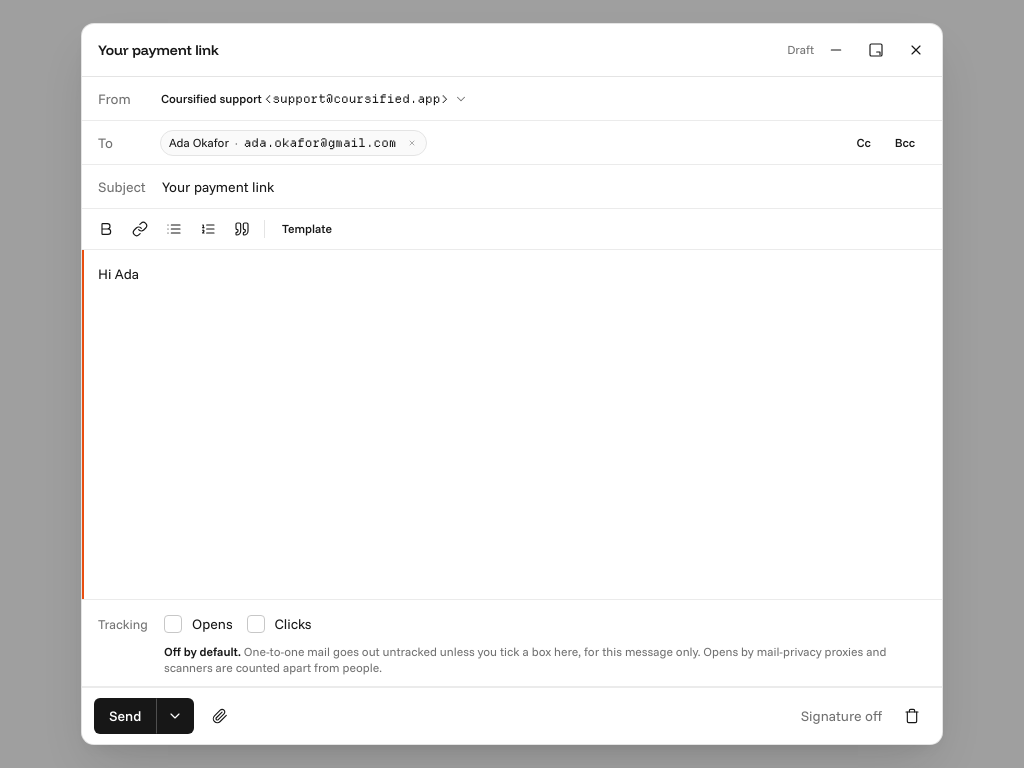
Test: Send with the 10 s undo window › counts down in the toast, and Undo cancels the send
Expected: the button named "Remove ada.okafor@gmail.com" is shown, [402,132,422,152]
Click the button "Send".
click(125, 716)  # box [94,698,156,734]
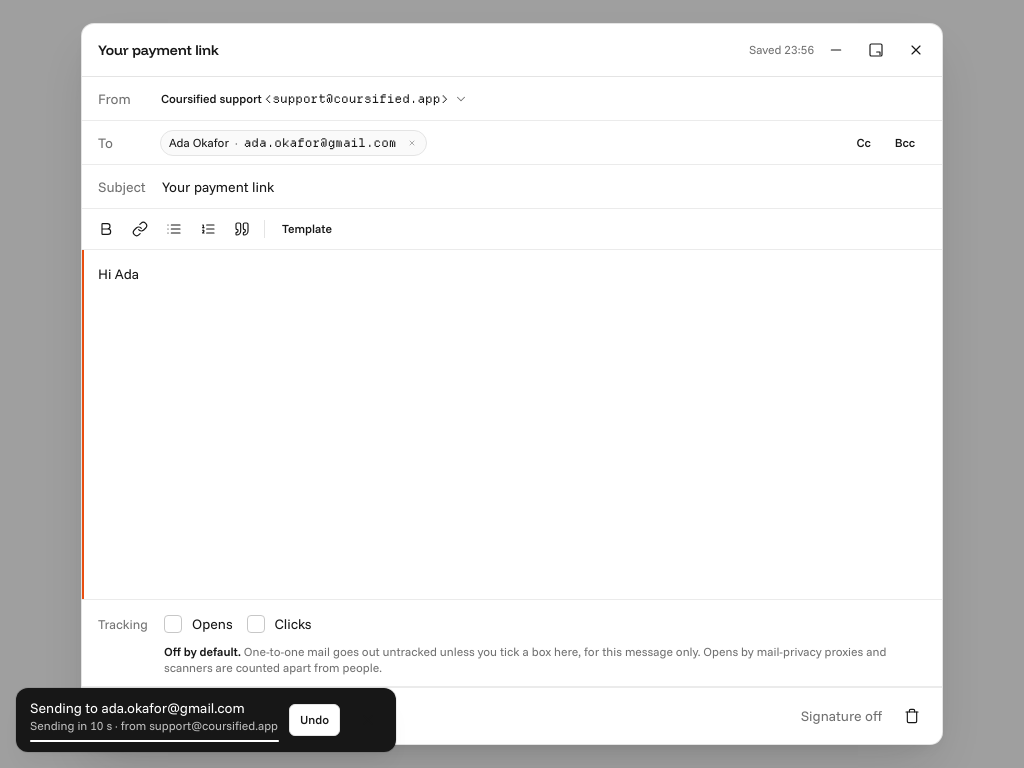
Expected: the text "Sending to ada.okafor@gmail.com" is shown, [30,699,245,717]
Expected: the text "Sending in 10 s · from support@coursified.app" is shown, [30,718,279,734]
Click the button "Undo".
click(314, 720)  # box [289,704,340,736]
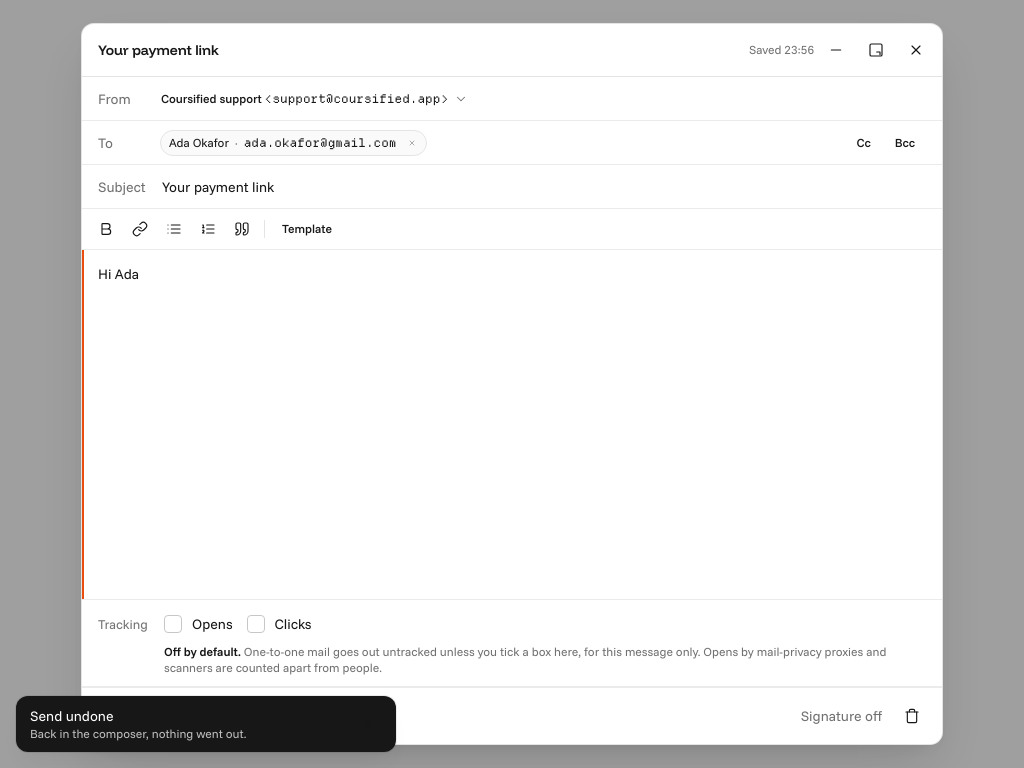
Expected: the text "Send undone" is shown, [30,707,114,725]
